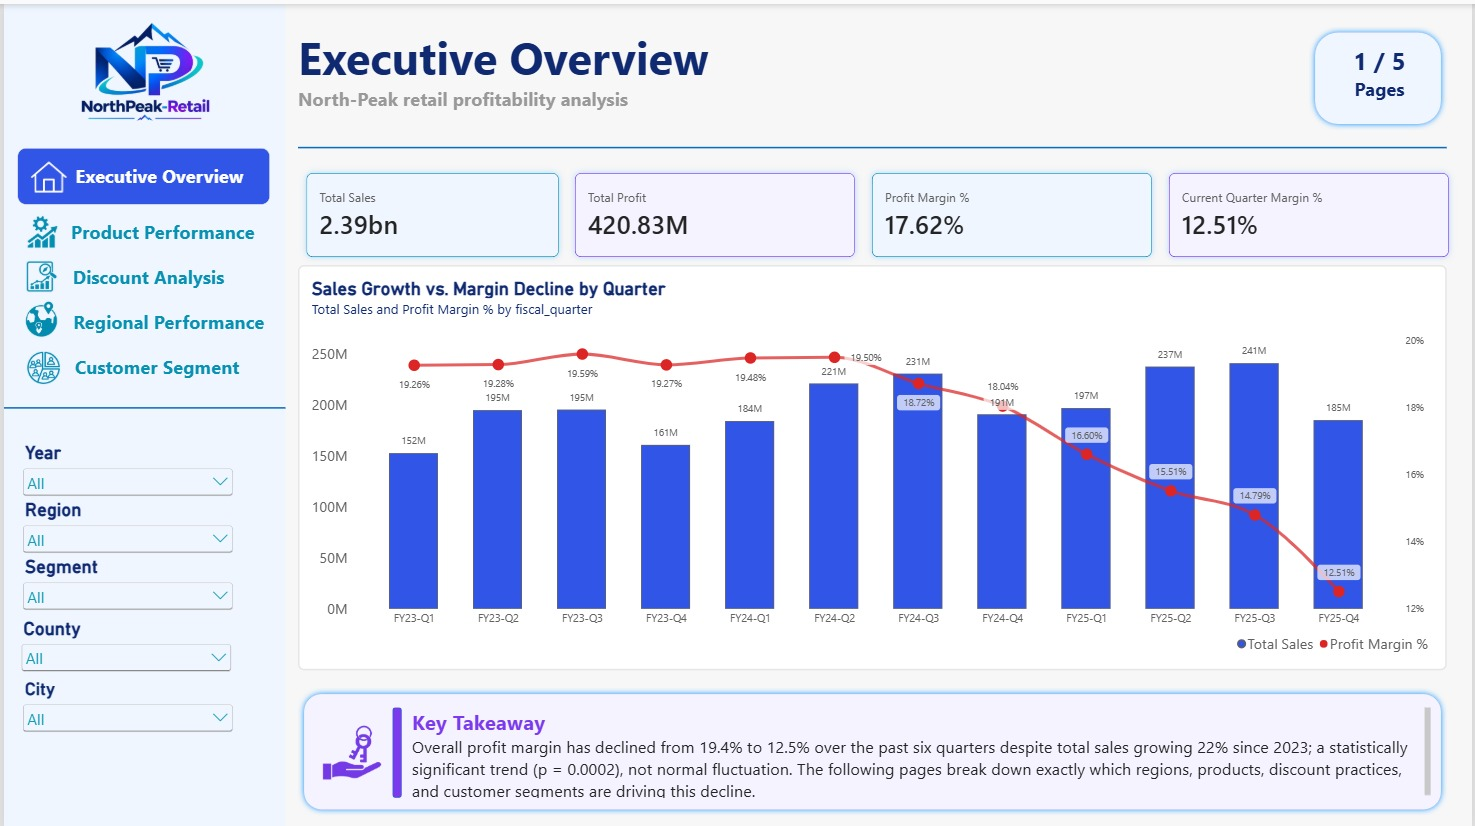

Layout of this report page (visuals, bound fields, positions):
{"tool":"powerbi","page":{"name":"Executive Overview","canvas":[1920,1080],"ordinal":0},"visuals":[{"type":"cardVisual","fields":{"Data":["fact_sales.Total Sales"]},"box":[384,210,352,132],"z":0},{"type":"cardVisual","fields":{"Data":["fact_sales.Total Profit"]},"box":[736,210,388,132],"z":1000},{"type":"cardVisual","fields":{"Data":["fact_sales.Profit Margin %"]},"box":[1124,210,388,132],"z":2000},{"type":"cardVisual","fields":{"Data":["fact_sales.Current Quarter Margin %"]},"box":[1512,210,388,132],"z":3000},{"type":"lineStackedColumnComboChart","title":"Sales Growth vs. Margin Decline by Quarter","fields":{"Category":["dim_date.fiscal_quarter"],"Y":["fact_sales.Total Sales"],"Y2":["fact_sales.Profit Margin %"]},"box":[384,342,1502,530],"z":4000},{"type":"shape","box":[0,0,368,1080],"z":5000},{"type":"image","box":[0,0,368,182],"z":6000},{"type":"slicer","fields":{"Values":["dim_date.year"]},"box":[19.6,572.7,284,76],"z":7000},{"type":"slicer","fields":{"Values":["dim_region.region"]},"box":[19.6,647.2,284,74],"z":8000},{"type":"slicer","fields":{"Values":["dim_customer.segment"]},"box":[19.6,721.8,284,100],"z":9000},{"type":"slicer","fields":{"Values":["dim_region.county"]},"box":[17.7,802.2,284,92],"z":10000},{"type":"slicer","fields":{"Values":["dim_region.city"]},"box":[19.6,882.6,284,74],"z":11000},{"type":"shape","box":[384,164,1502,46],"z":12000},{"type":"textbox","box":[384.4,29.4,1508.2,158.9],"z":13000},{"type":"shape","box":[384.4,894.4,1502.4,166.7],"z":14000},{"type":"textbox","box":[18,188,330,74],"z":15000},{"type":"image","box":[18,182,82,90],"z":16000},{"type":"textbox","box":[18,262,330,80],"z":17000},{"type":"textbox","box":[18,322,330,76],"z":18000},{"type":"textbox","box":[17.7,380.5,329.5,68.6],"z":19000},{"type":"textbox","box":[18,440,330,86],"z":20000},{"type":"shape","box":[0,502,368,52],"z":21000},{"type":"shape","box":[1706.3,29.4,180.4,135.3],"z":22000},{"type":"textbox","box":[1731.8,51,133.4,96.1],"z":23000},{"type":"shape","box":[508,920,12,118],"z":24000},{"type":"textbox","box":[533.5,919.8,1331.7,117.7],"z":25000},{"type":"image","box":[17.7,272.6,62.8,49],"z":26000},{"type":"image","box":[7.8,331.5,82.4,49],"z":27000},{"type":"image","box":[17.7,386.4,62.8,53],"z":28000},{"type":"image","box":[23.5,449.1,56.9,53],"z":29000},{"type":"image","box":[384.4,894.4,141.2,168.7],"z":30000},{"type":"shape","box":[19.6,262.8,323.6,58.8],"z":31000},{"type":"shape","box":[19.8,331.4,324,49.5],"z":32000},{"type":"shape","box":[7.8,380.5,335.4,68.6],"z":33000},{"type":"shape","box":[17.7,445.2,329.5,62.8],"z":34000}]}

Visuals, with their boxes on the page's 1920x1080 design canvas (x1, y1, x2, y2). These are canvas units, not pixel positions in the 1475x826 screenshot, which may show the page scaled, cropped or inside an application window:
cardVisual - fact_sales.Total Sales: box=[384, 210, 736, 342]
cardVisual - fact_sales.Total Profit: box=[736, 210, 1124, 342]
cardVisual - fact_sales.Profit Margin %: box=[1124, 210, 1512, 342]
cardVisual - fact_sales.Current Quarter Margin %: box=[1512, 210, 1900, 342]
"Sales Growth vs. Margin Decline by Quarter" lineStackedColumnComboChart: box=[384, 342, 1886, 872]
shape: box=[0, 0, 368, 1080]
image: box=[0, 0, 368, 182]
slicer - dim_date.year: box=[20, 573, 304, 649]
slicer - dim_region.region: box=[20, 647, 304, 721]
slicer - dim_customer.segment: box=[20, 722, 304, 822]
slicer - dim_region.county: box=[18, 802, 302, 894]
slicer - dim_region.city: box=[20, 883, 304, 957]
shape: box=[384, 164, 1886, 210]
textbox: box=[384, 29, 1893, 188]
shape: box=[384, 894, 1887, 1061]
textbox: box=[18, 188, 348, 262]
image: box=[18, 182, 100, 272]
textbox: box=[18, 262, 348, 342]
textbox: box=[18, 322, 348, 398]
textbox: box=[18, 380, 347, 449]
textbox: box=[18, 440, 348, 526]
shape: box=[0, 502, 368, 554]
shape: box=[1706, 29, 1887, 165]
textbox: box=[1732, 51, 1865, 147]
shape: box=[508, 920, 520, 1038]
textbox: box=[534, 920, 1865, 1038]
image: box=[18, 273, 80, 322]
image: box=[8, 332, 90, 380]
image: box=[18, 386, 80, 439]
image: box=[24, 449, 80, 502]
image: box=[384, 894, 526, 1063]
shape: box=[20, 263, 343, 322]
shape: box=[20, 331, 344, 381]
shape: box=[8, 380, 343, 449]
shape: box=[18, 445, 347, 508]
